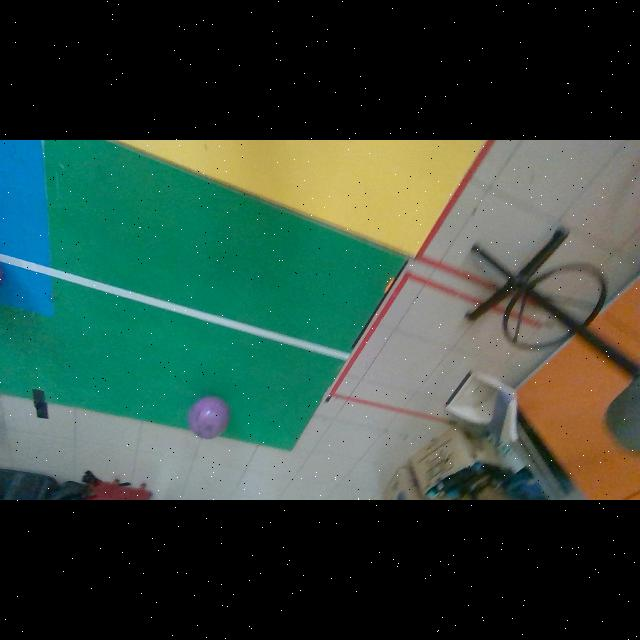P: (188, 397, 230, 439)
